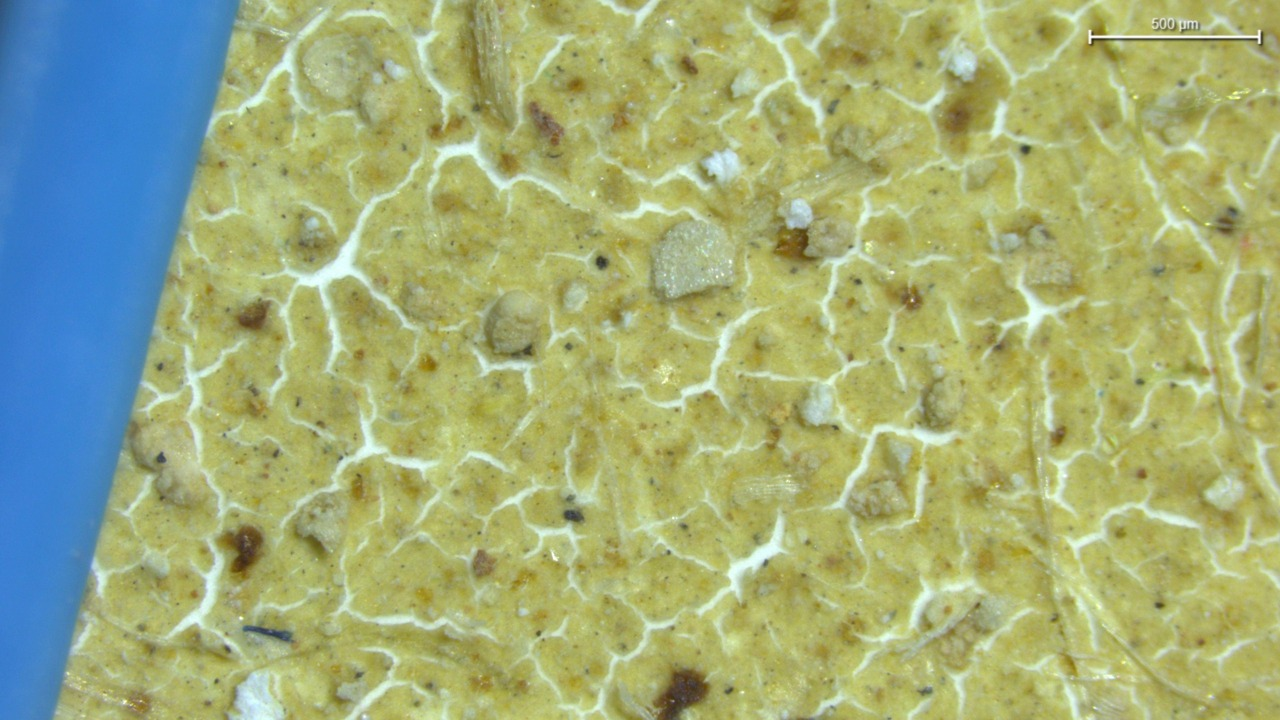microplastic_fragment: (650, 220, 736, 299), (294, 490, 348, 552), (227, 670, 286, 720), (796, 384, 834, 426), (941, 40, 978, 82), (784, 198, 813, 229), (705, 149, 740, 170), (514, 324, 519, 330)
